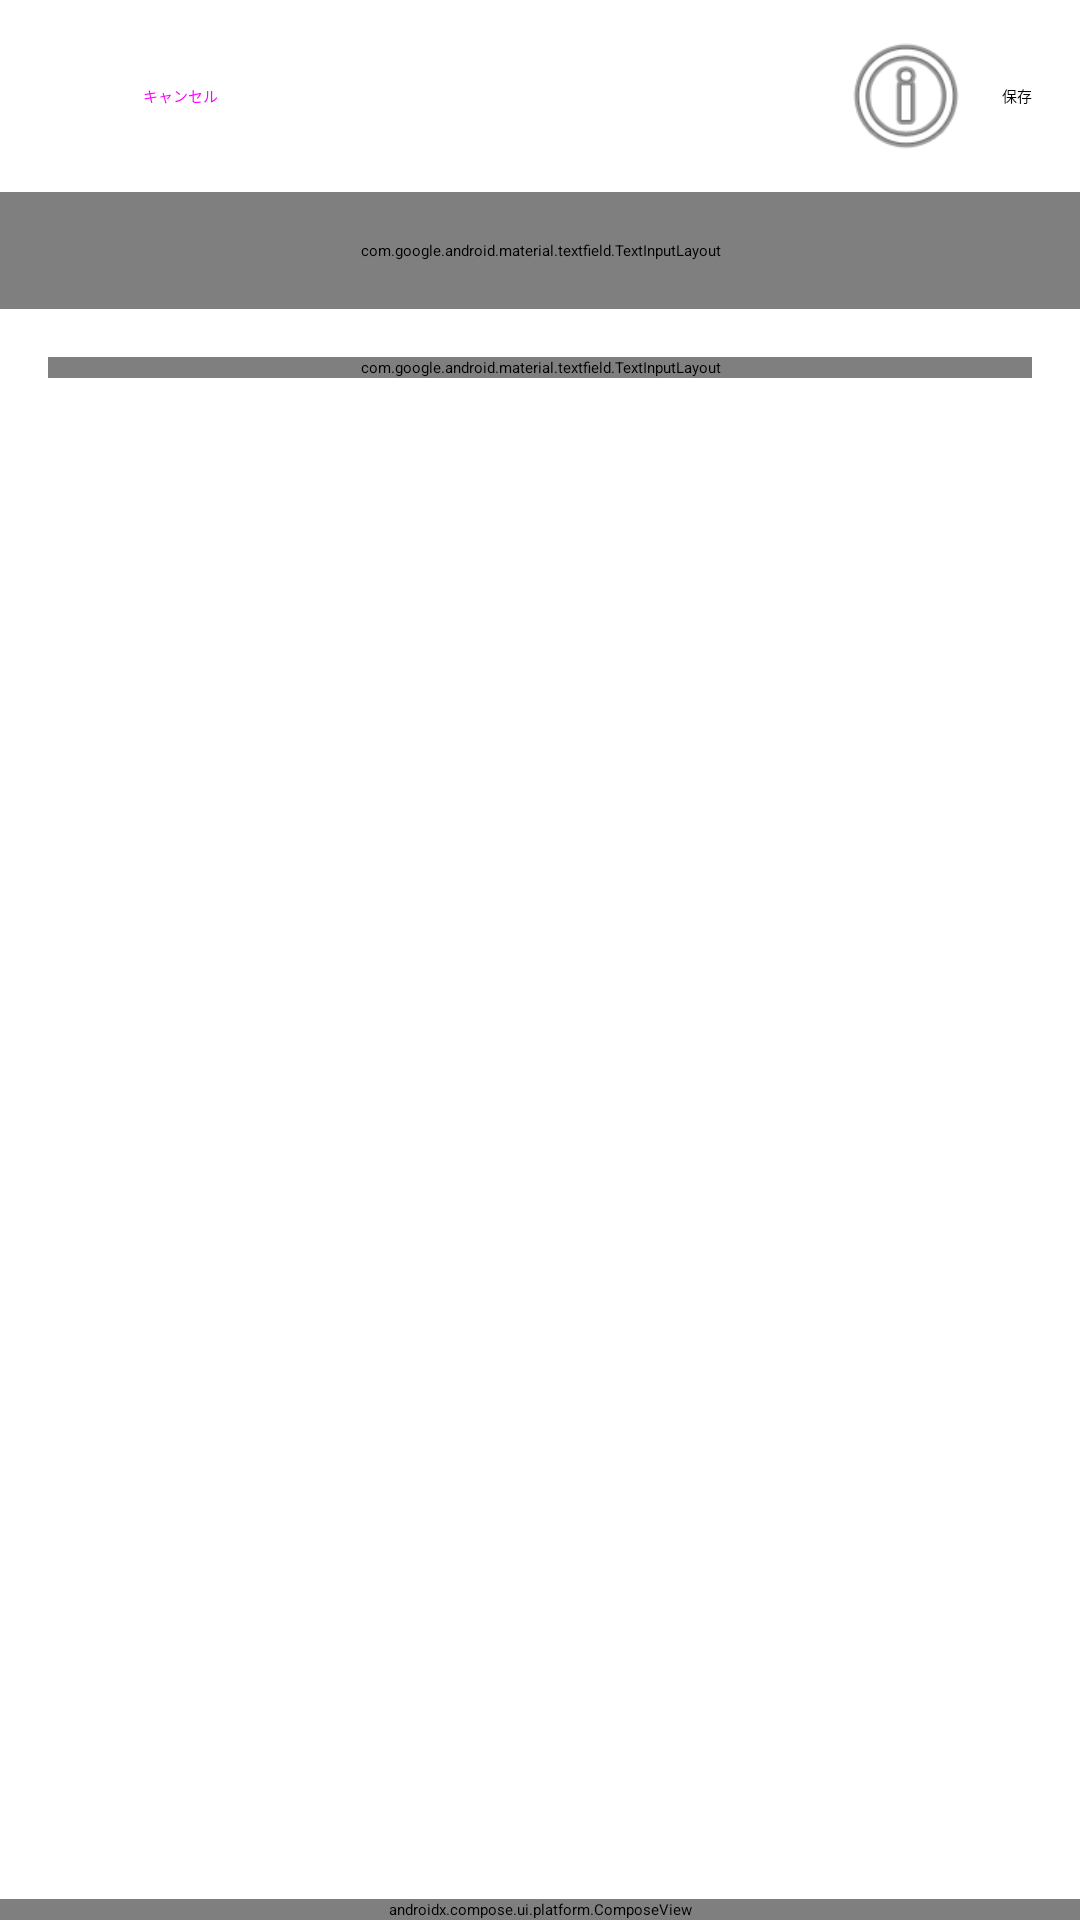

Icons on this 1080 x 1920 Android screen, each with its box as (x1, y1, x2, y2):
詳細: (854, 44, 958, 148)
